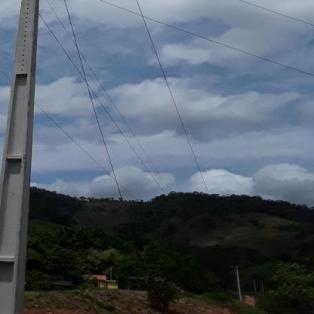Poste: (0, 0, 56, 314)
